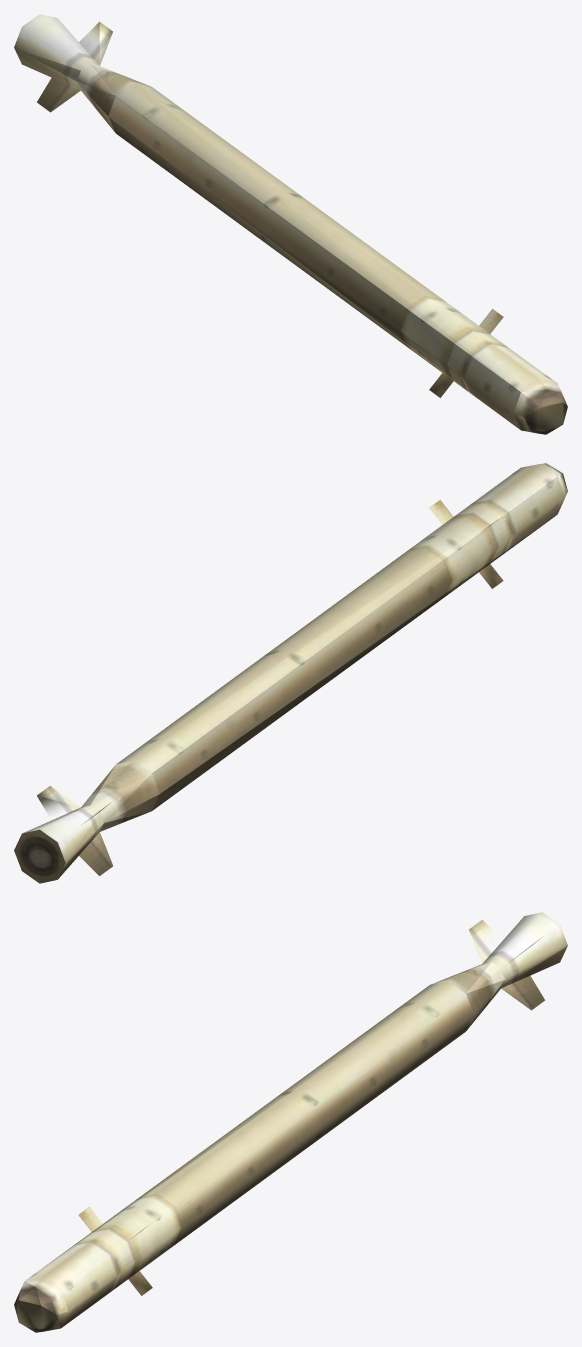
File: STINGER.glb
The picture shows the model from 3 angles, top to bottom: view 1: azimuth 30°, elevation 25°; view 2: azimuth 150°, elevation 25°; view 3: azimuth 330°, elevation 25°; orthographic projection.
Visible parts, largest first — view 1: _STINGER; view 2: _STINGER; view 3: _STINGER.
Boxes of the visible parts, x1=… form: _STINGER: x1=14, y1=14, x2=567, y2=434; _STINGER: x1=14, y1=463, x2=567, y2=883; _STINGER: x1=14, y1=912, x2=567, y2=1332.
Bounding box in the file's own units: 0.1096 × 0.1087 × 1.54.
1 material, 1 textured.
